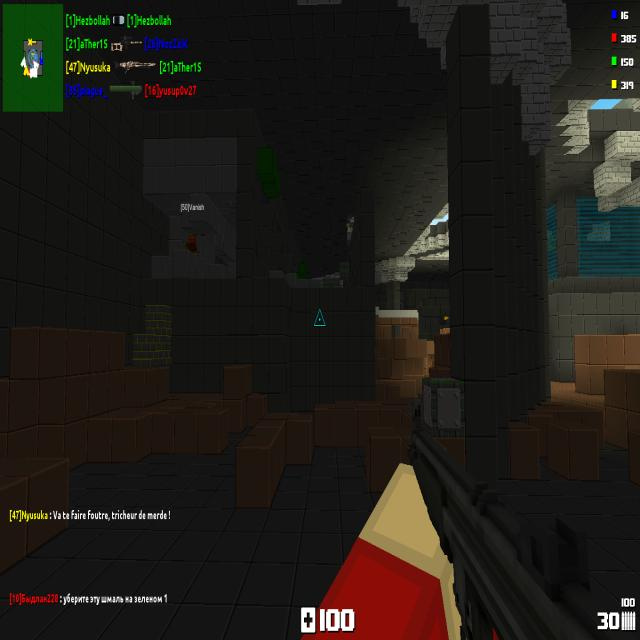enemy: (346, 211, 355, 245)
